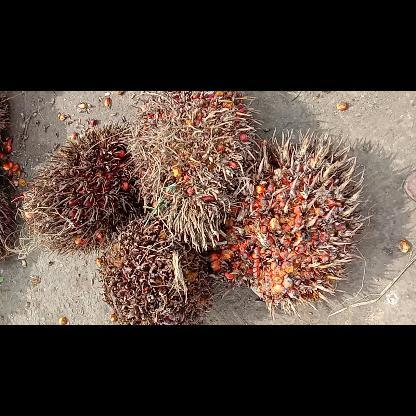Terlalu masak: (211, 127, 373, 319), (124, 90, 262, 252), (4, 118, 140, 260), (96, 210, 214, 324)
